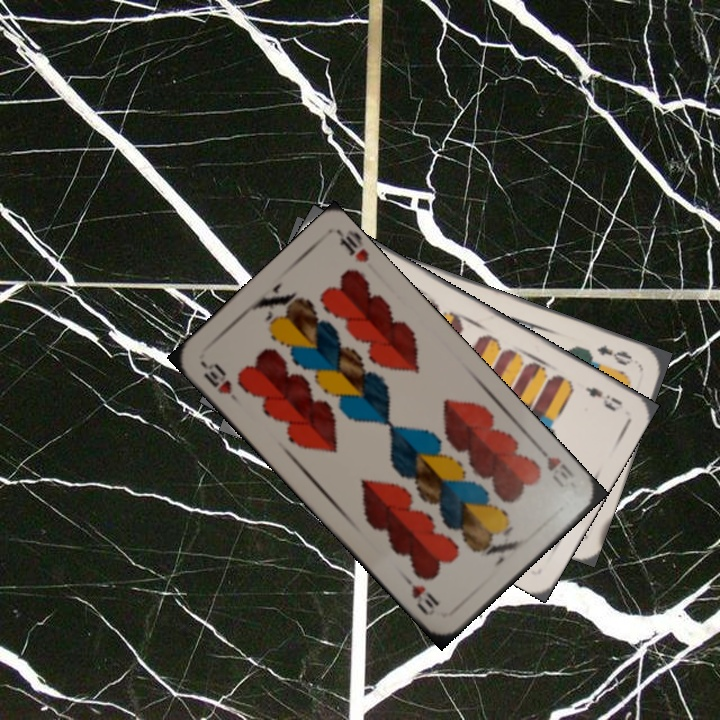E9: (581, 382, 625, 414)
EO: (592, 341, 636, 369)
H10: (197, 358, 243, 406), (533, 442, 577, 491)
